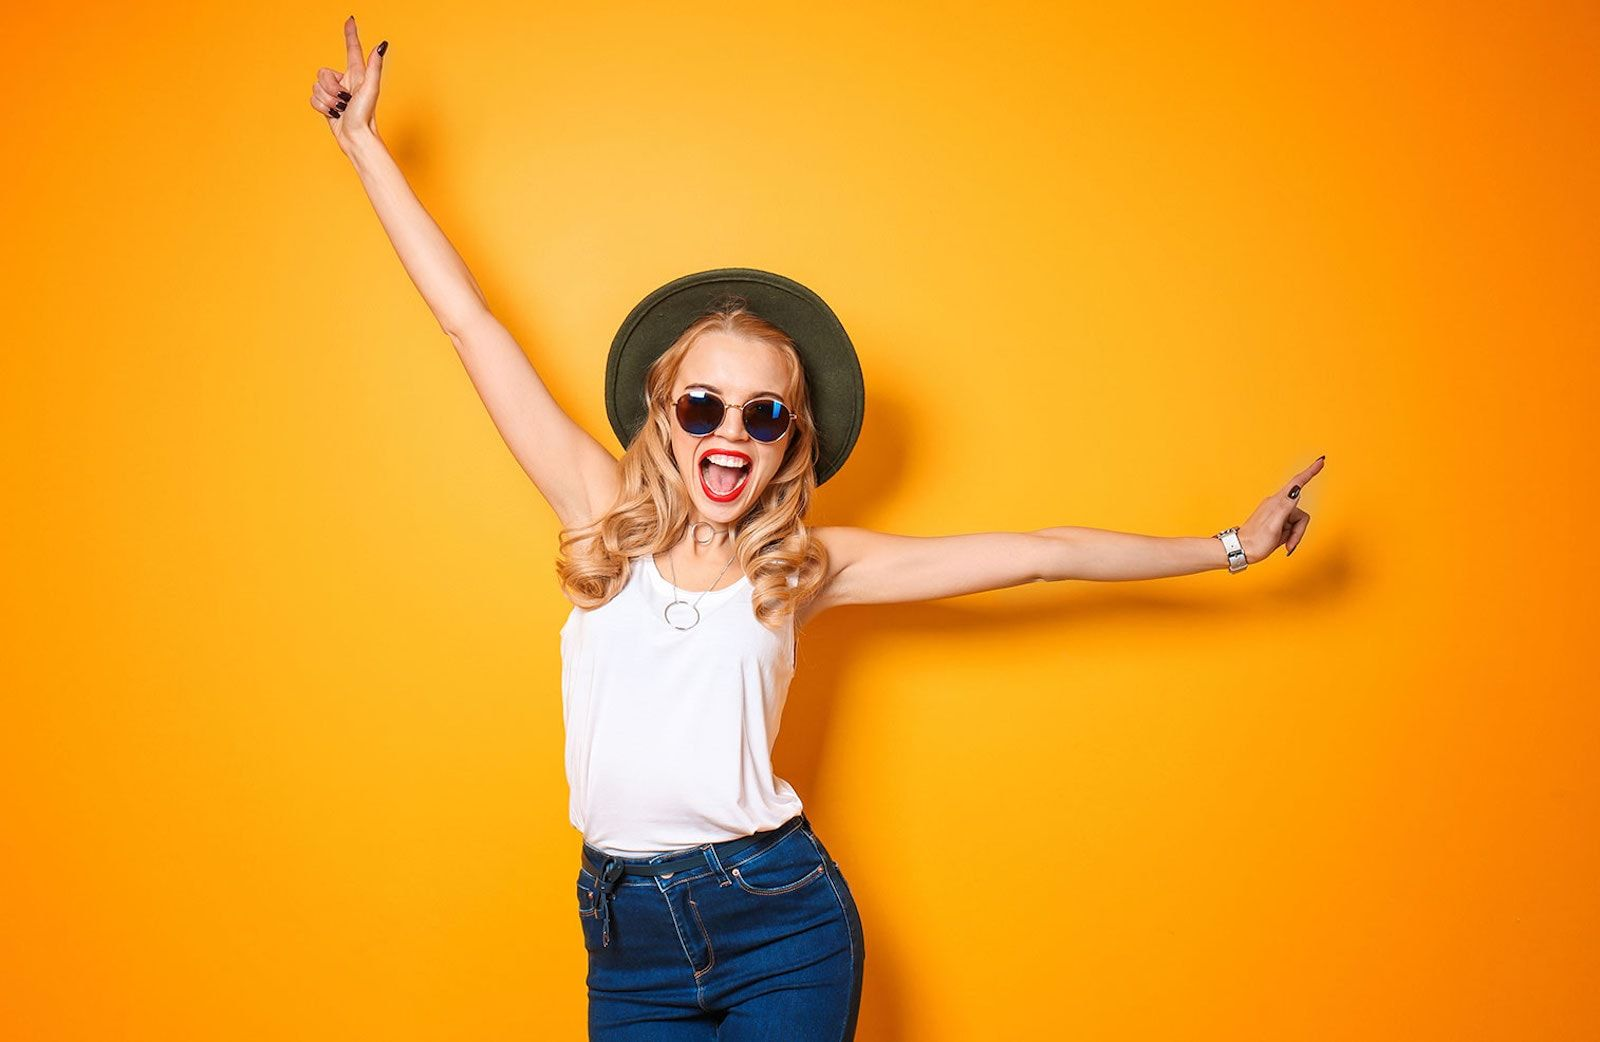NoMask: (675, 377, 782, 514)
